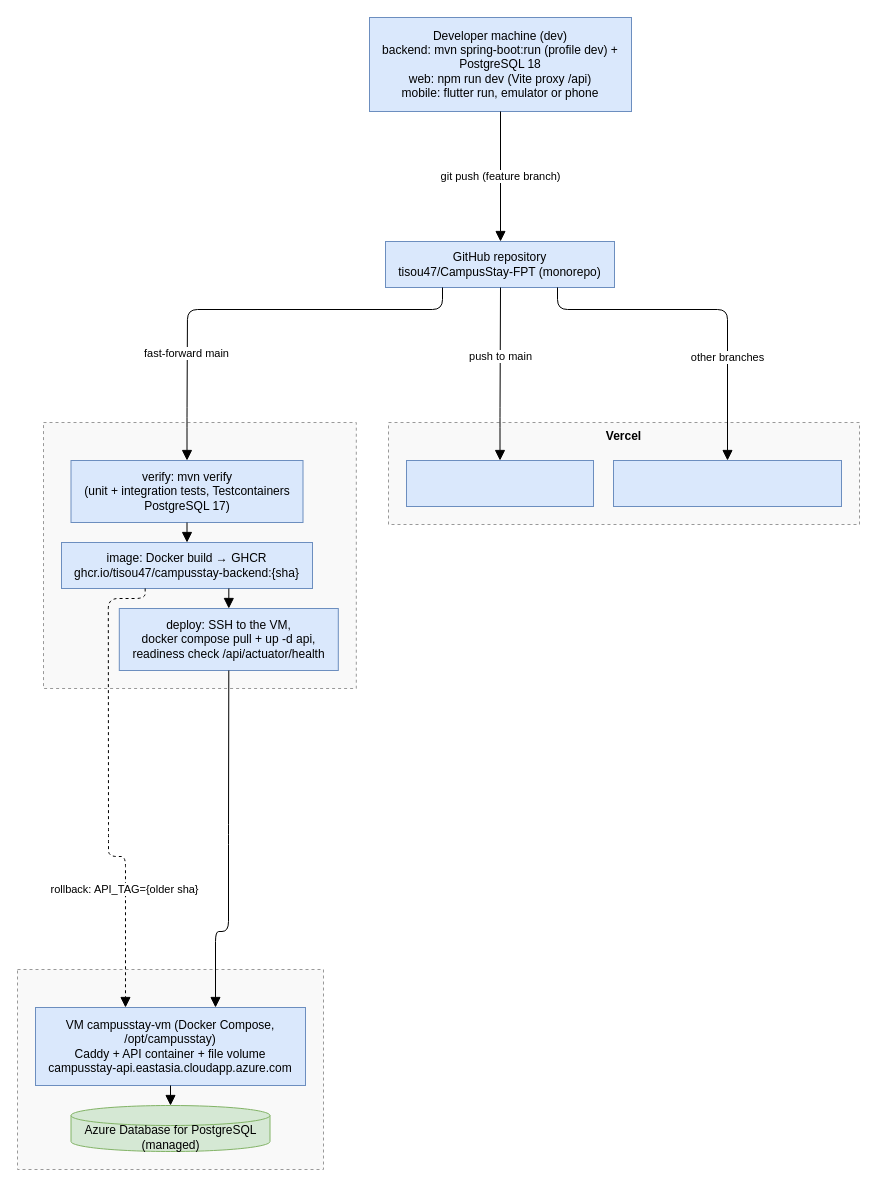
Some shapes in this 877 by 1187 pixel diagram are drawn without their labels. Here are the shapes that lost their labels. From the top down, the box of each, then its label:
(406, 460, 594, 506): Production web campusstay-fpt-ten.vercel.app
(612, 460, 842, 506): Preview deployments (other branches, when web/ changed)
(42, 422, 356, 688): GitHub Actions — backend.yml (push to main touching backend/**)
(16, 968, 324, 1170): Production / demo environment (Azure for Students, East Asia)
